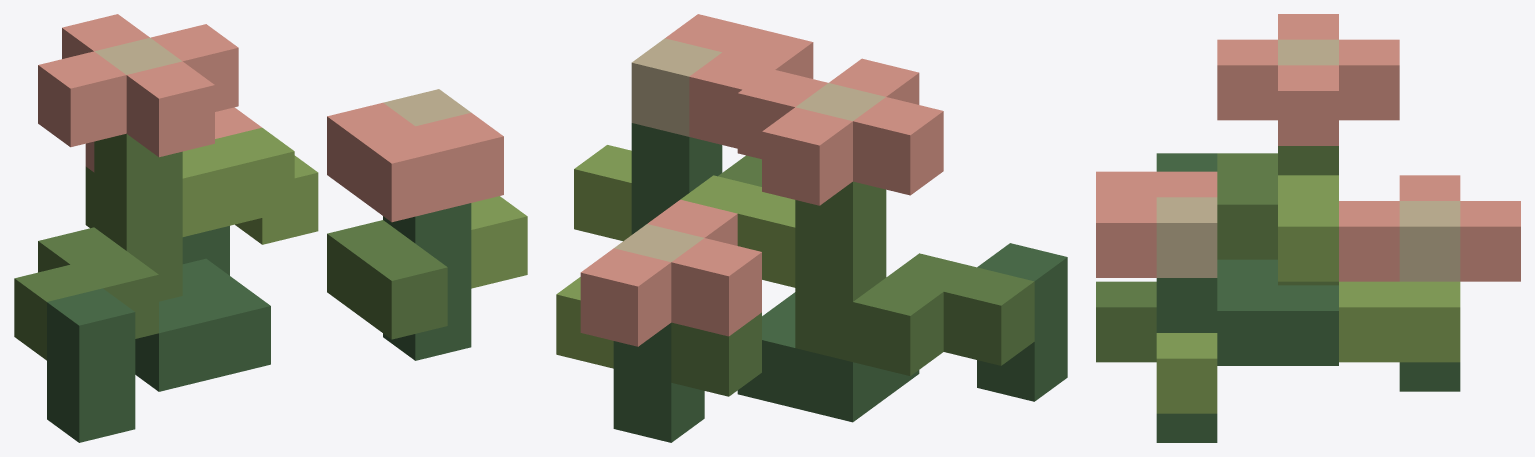
Rendered from hearthvale_foliage_wildflowers.obj.
The picture shows the model from 3 angles, left to right: view 1: azimuth 30°, elevation 25°; view 2: azimuth 150°, elevation 25°; view 3: azimuth 270°, elevation 25°; orthographic projection. The views are drawn at different scales.
Parts seen in each view (by area): view 1: palette_5, palette_3, palette_2, palette_4, palette_6; view 2: palette_5, palette_2, palette_3, palette_4, palette_6; view 3: palette_5, palette_4, palette_3, palette_2, palette_6.
Part boxes in pixels (left/top/right/bottom): palette_5: left=38, top=14, right=503, bottom=222; palette_3: left=47, top=203, right=471, bottom=442; palette_2: left=14, top=133, right=447, bottom=360; palette_4: left=182, top=127, right=527, bottom=288; palette_6: left=94, top=38, right=470, bottom=126; palette_5: left=580, top=14, right=943, bottom=346; palette_2: left=671, top=155, right=1034, bottom=396; palette_3: left=613, top=123, right=1067, bottom=442; palette_4: left=556, top=145, right=795, bottom=368; palette_6: left=614, top=38, right=885, bottom=262; palette_5: left=1096, top=14, right=1520, bottom=281; palette_4: left=1156, top=175, right=1460, bottom=413; palette_3: left=1156, top=153, right=1460, bottom=442; palette_2: left=1096, top=146, right=1338, bottom=362; palette_6: left=1156, top=39, right=1460, bottom=281.
Size of the model in its own units: 0.5 by 0.3125 by 0.4375.
